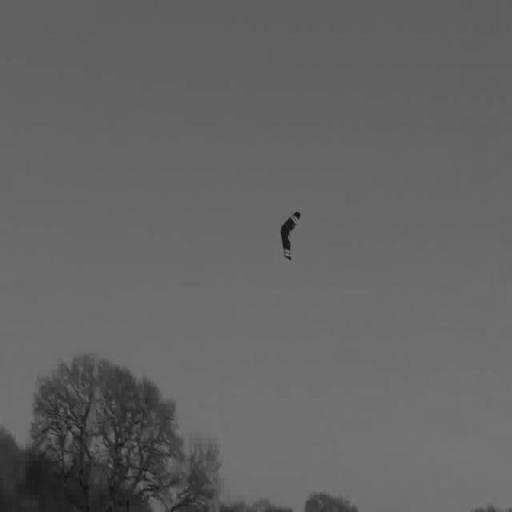uav: (276, 202, 302, 268)
